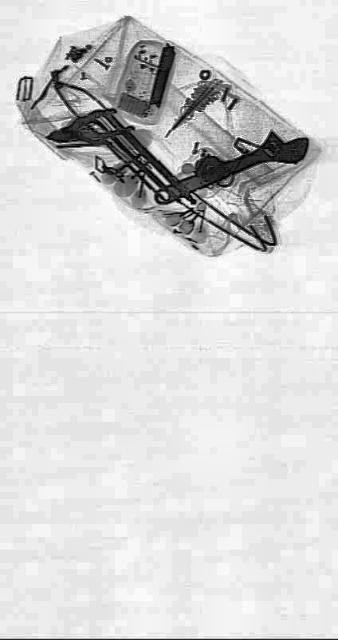Pliers: (42, 96, 134, 158)
Wrench: (151, 114, 311, 220)
